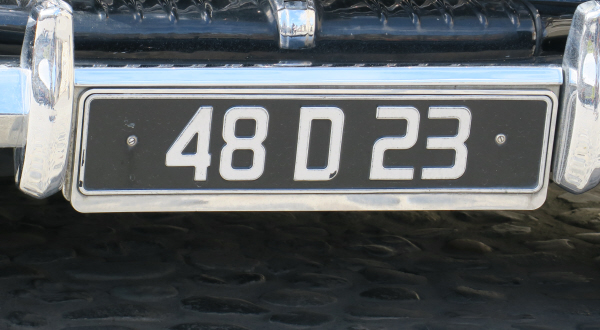license_plate: (78, 91, 552, 199)
